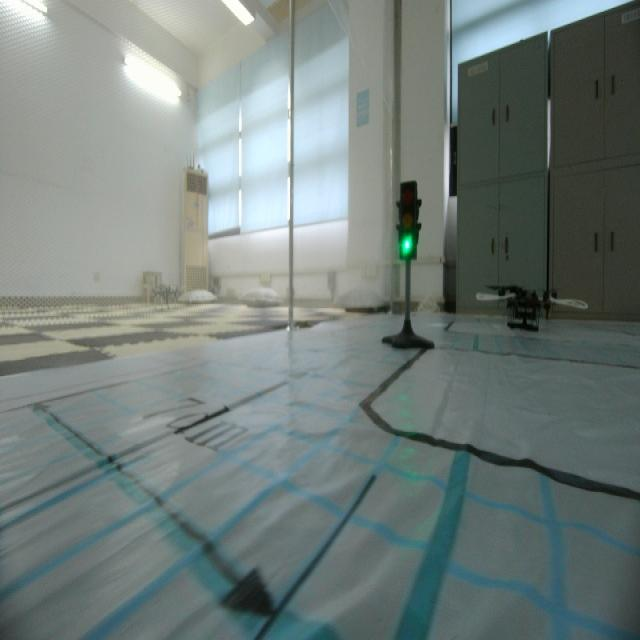green: (391, 172, 425, 270)
